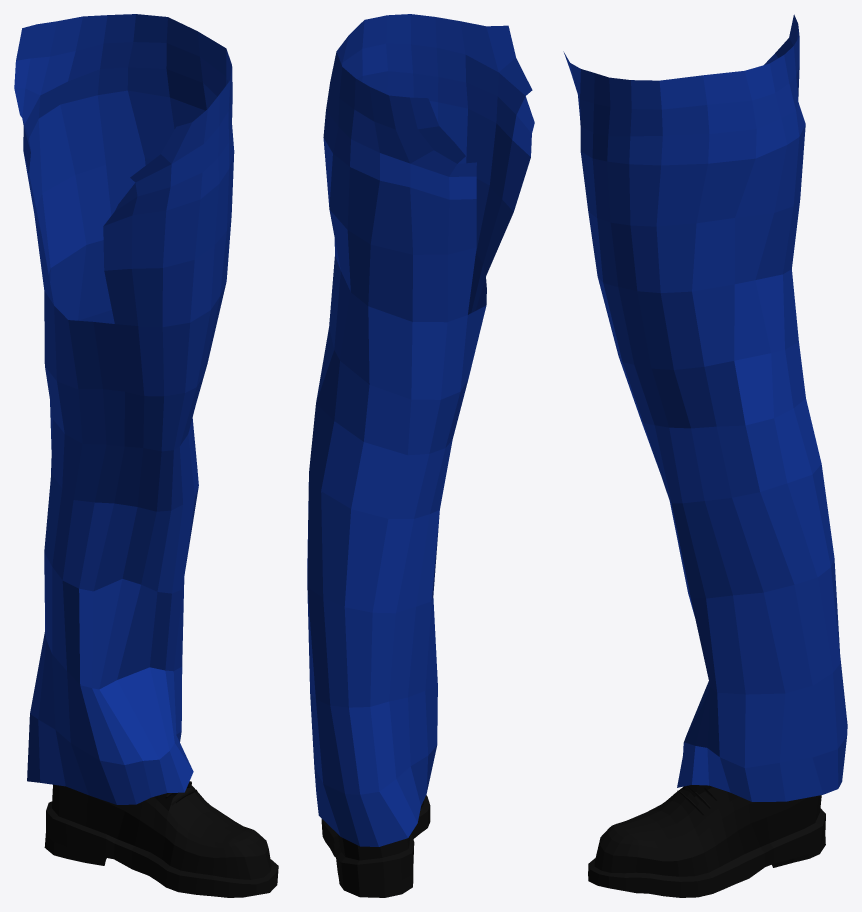
File: pie_izquierdo.obj
3 views of the same model, side by side, from view 1: azimuth 30°, elevation 25°; view 2: azimuth 150°, elevation 25°; view 3: azimuth 270°, elevation 25° (orthographic). The views are drawn at different scales.
Visible parts, largest first — view 1: Worker.001; view 2: Worker.001; view 3: Worker.001.
Part boxes in pixels (x1,y1,x2,y2): Worker.001: (14,14,278,897); Worker.001: (307,14,534,897); Worker.001: (563,14,847,897).
Bounding box in the file's own units: 0.224 × 0.9621 × 0.3064.
